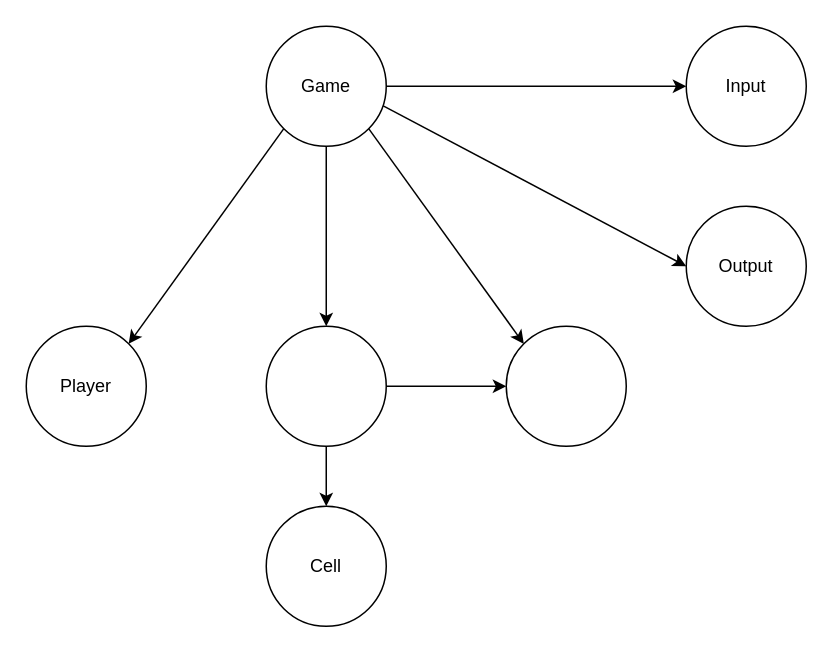
Image size: 833x653. Some labels were removed from this diagram. Each missing label, with the centre of its shape:
Board: [325,385]
Logic: [565,385]
